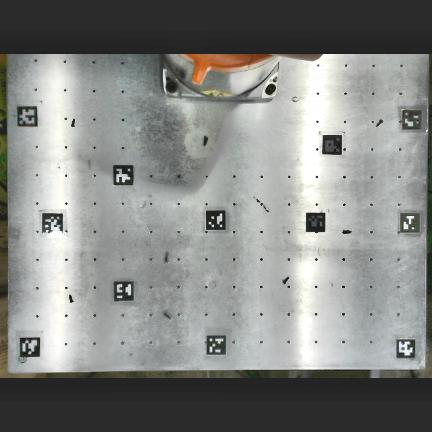black_screw: (283, 276, 289, 283), (162, 311, 170, 316), (204, 135, 209, 142), (163, 255, 168, 261), (69, 296, 74, 302), (344, 230, 352, 233), (379, 118, 383, 123), (71, 124, 76, 127)
marker: (17, 107, 38, 128), (400, 213, 420, 234), (42, 214, 62, 234), (113, 166, 133, 186), (114, 282, 134, 302), (206, 337, 226, 357), (403, 111, 422, 132), (206, 210, 225, 231), (20, 338, 40, 357), (396, 339, 415, 359), (306, 213, 325, 232), (323, 136, 342, 154)
